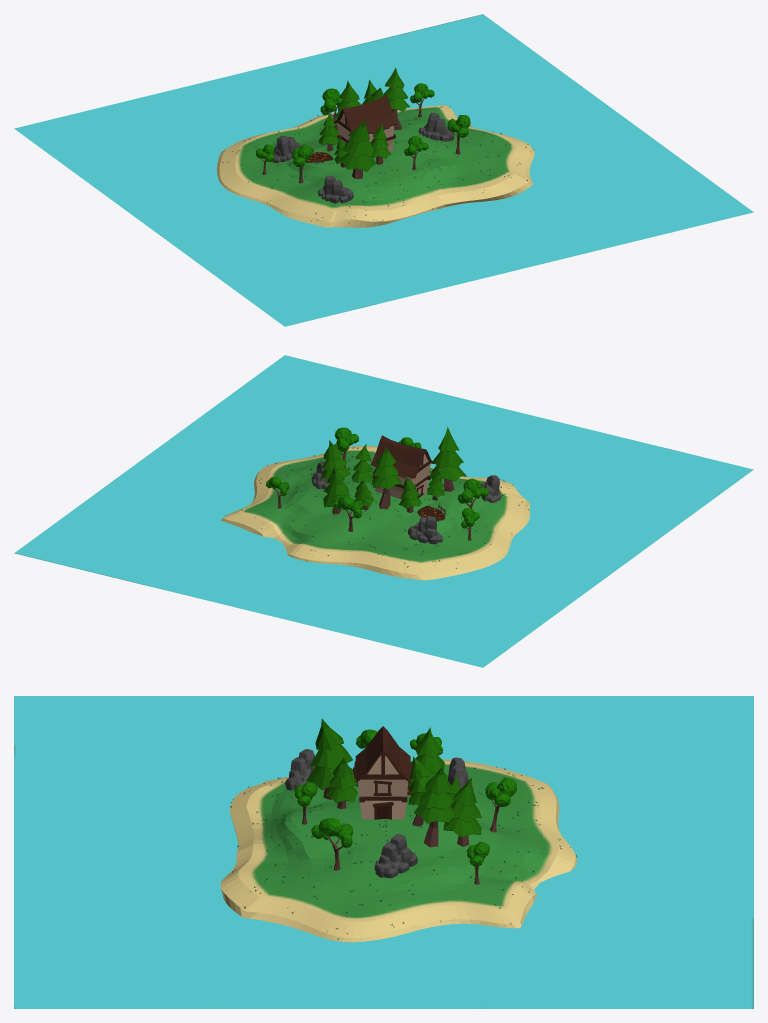
The model's file is environment_ile.fbx.
The picture shows the model from 3 angles, top to bottom: view 1: azimuth 30°, elevation 25°; view 2: azimuth 150°, elevation 25°; view 3: azimuth 270°, elevation 25°; orthographic projection. The views are drawn at different scales.
Visible parts, largest first — view 1: ile; view 2: ile; view 3: ile.
Boxes of the visible parts, left/top/right/bottom form: ile: left=14, top=14, right=753, bottom=326; ile: left=14, top=355, right=753, bottom=667; ile: left=14, top=696, right=753, bottom=1008.
Size of the model in its own units: 48699 by 10115 by 48699.
